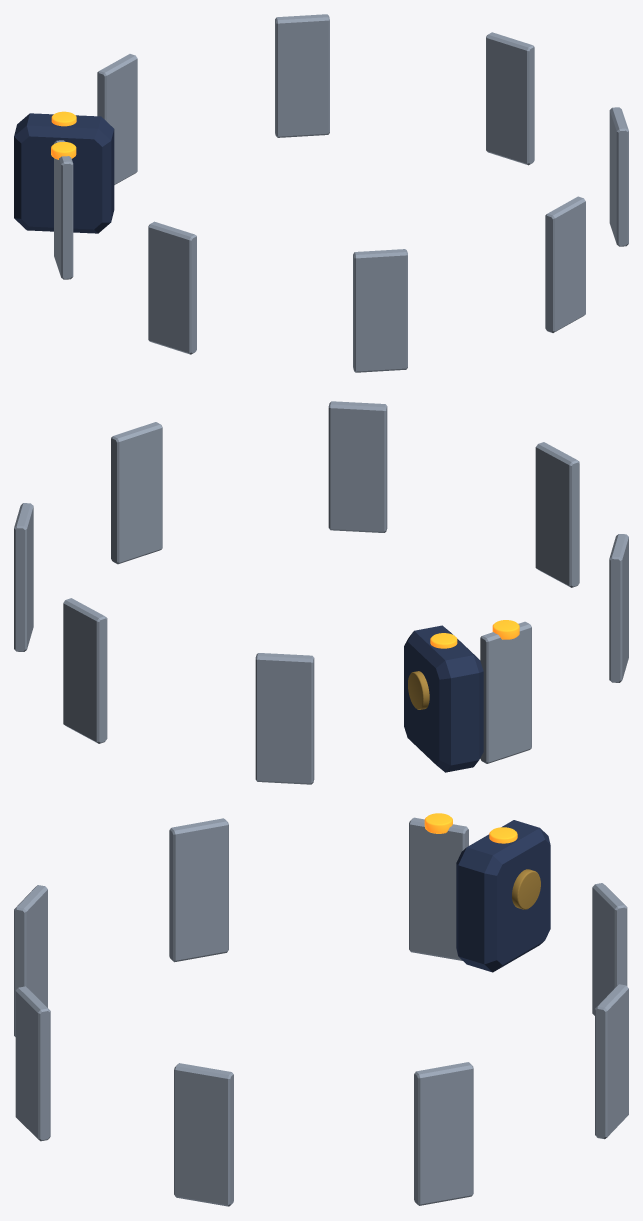
Rendered from tower_overclock_efficiency_s3.glb.
3 views of the same model, one above another, from view 1: azimuth 30°, elevation 25°; view 2: azimuth 150°, elevation 25°; view 3: azimuth 270°, elevation 25° (orthographic). The views are drawn at different scales.
Visible parts, largest first — view 1: overclock_regulator, overclock_base_fin2, overclock_base_fin6, overclock_base_fin7, overclock_base_fin3, overclock_base_fin5, overclock_base_fin1, overclock_base_fin4, overclock_base_fin0; view 2: overclock_regulator, overclock_base_fin1, overclock_base_fin5, overclock_base_fin4, overclock_base_fin0, overclock_base_fin2, overclock_base_fin6, overclock_base_fin3, overclock_base_fin7, overclock_regulator_dial; view 3: overclock_regulator, overclock_base_fin4, overclock_base_fin3, overclock_base_fin7, overclock_base_fin0, overclock_base_fin5, overclock_base_fin2, overclock_base_fin1, overclock_base_fin6, overclock_regulator_dial.
Part boxes in pixels (x1,y1,x2,y2): overclock_regulator: (14,113,114,233); overclock_base_fin2: (275,14,329,137); overclock_base_fin6: (353,249,407,372); overclock_base_fin7: (148,221,196,354); overclock_base_fin3: (486,32,534,165); overclock_base_fin5: (545,196,585,332); overclock_base_fin1: (97,54,137,184); overclock_base_fin4: (609,107,628,246); overclock_base_fin0: (54,140,73,279); overclock_regulator: (404,625,483,772); overclock_base_fin1: (255,653,314,784); overclock_base_fin5: (328,401,387,532); overclock_base_fin4: (111,422,162,564); overclock_base_fin0: (480,621,531,763); overclock_base_fin2: (63,598,107,743); overclock_base_fin6: (535,442,579,587); overclock_base_fin3: (14,503,33,651); overclock_base_fin7: (609,534,628,682); overclock_regulator_dial: (408,671,429,709); overclock_regulator: (456,820,550,972); overclock_base_fin4: (174,1063,233,1206); overclock_base_fin3: (414,1062,473,1205); overclock_base_fin7: (169,818,228,962); overclock_base_fin0: (409,817,468,960); overclock_base_fin5: (15,986,50,1141); overclock_base_fin2: (595,984,628,1139); overclock_base_fin1: (592,883,627,1015); overclock_base_fin6: (14,885,47,1036); overclock_regulator_dial: (512,869,540,909).
Size of the model in its own units: 1.22 by 0.3026 by 1.22.
